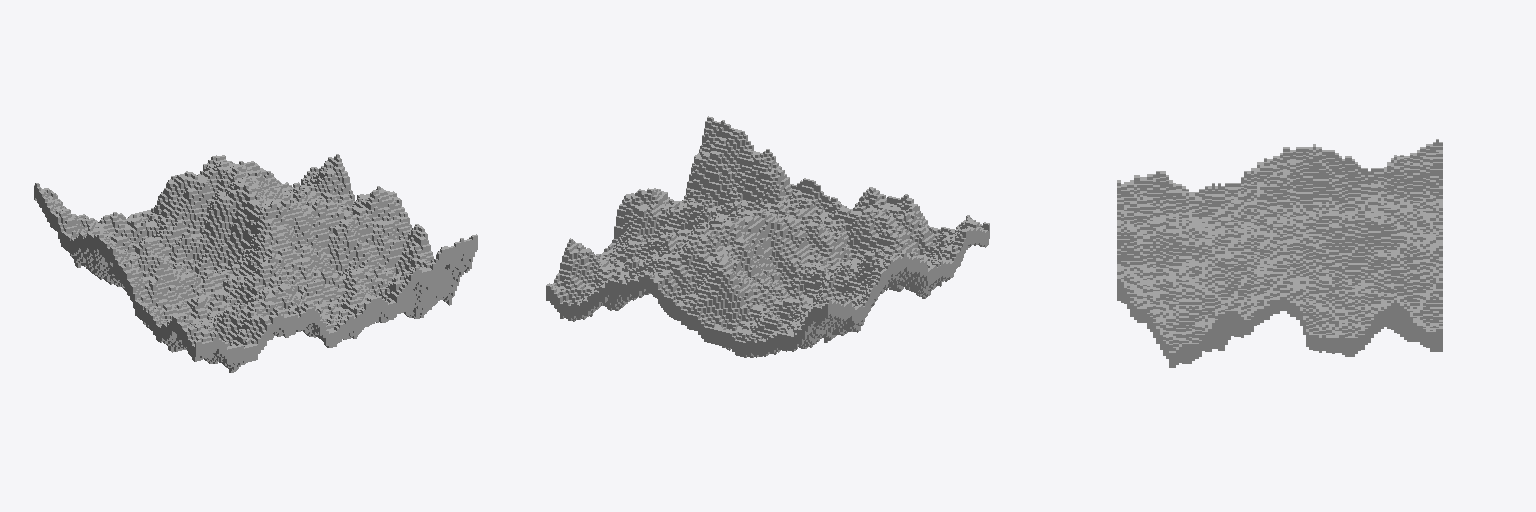
Rendered from output_world_fastperlin.obj.
3 views of the same model, side by side, from view 1: azimuth 30°, elevation 25°; view 2: azimuth 150°, elevation 25°; view 3: azimuth 270°, elevation 25° (orthographic).
Size of the model in its own units: 100 by 35 by 100.